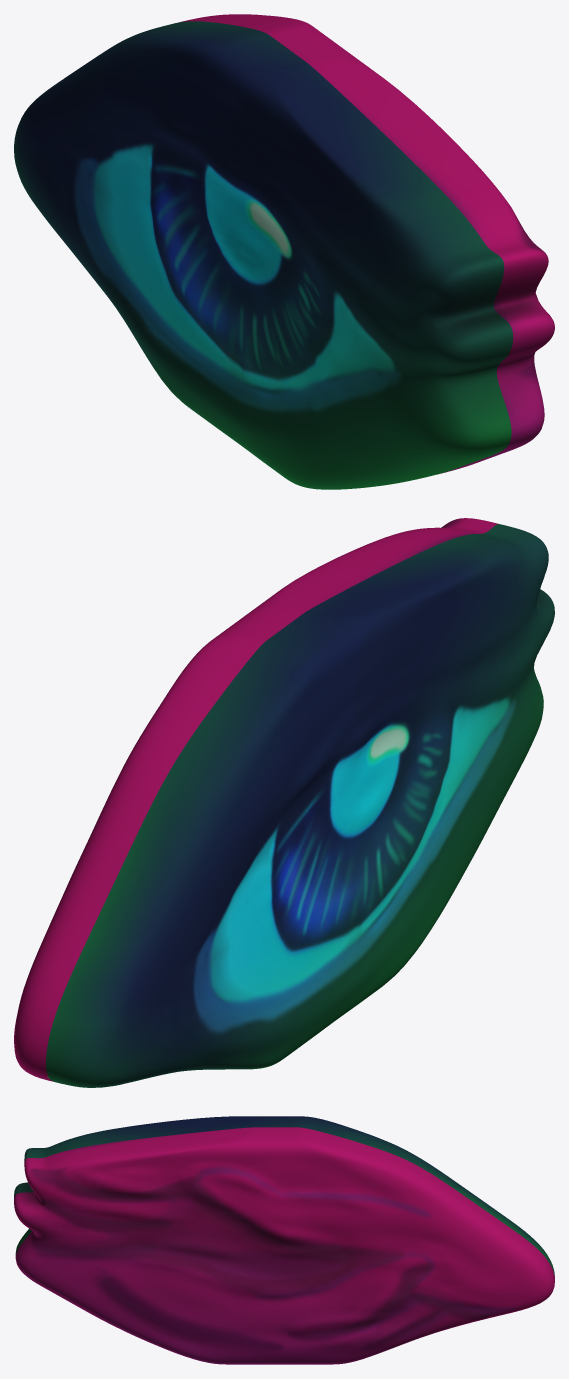
The model's file is touchingHands_eye_done1.fbx.
3 renders of one model, top to bottom at view 1: azimuth 30°, elevation 25°; view 2: azimuth 150°, elevation 25°; view 3: azimuth 270°, elevation 25°, orthographic. The views are drawn at different scales.
Parts seen in each view (by area): view 1: pCube1; view 2: pCube1; view 3: pCube1.
Boxes of the visible parts, x1,y1,x2,y2 form: pCube1: (14,14,554,489); pCube1: (14,518,554,1087); pCube1: (14,1116,554,1364).
Bounding box in the file's own units: 1.33 × 3.54 × 7.6.
